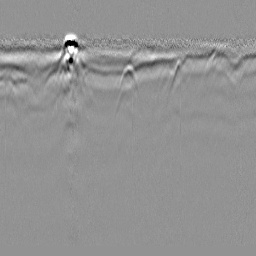cavity: (116, 60, 140, 96)
